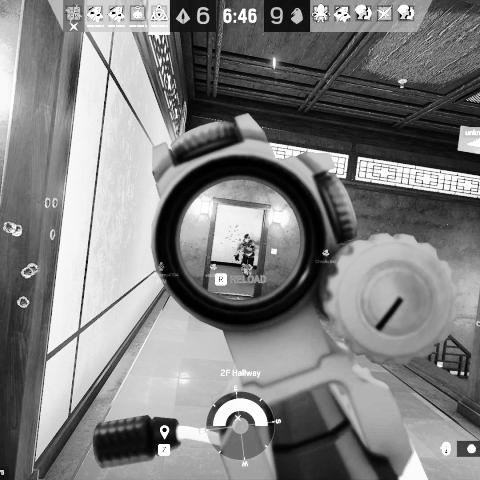Character: (236, 232, 257, 284)
Friend_label: (314, 247, 338, 265), (205, 263, 220, 278)
Head: (243, 233, 252, 242)
